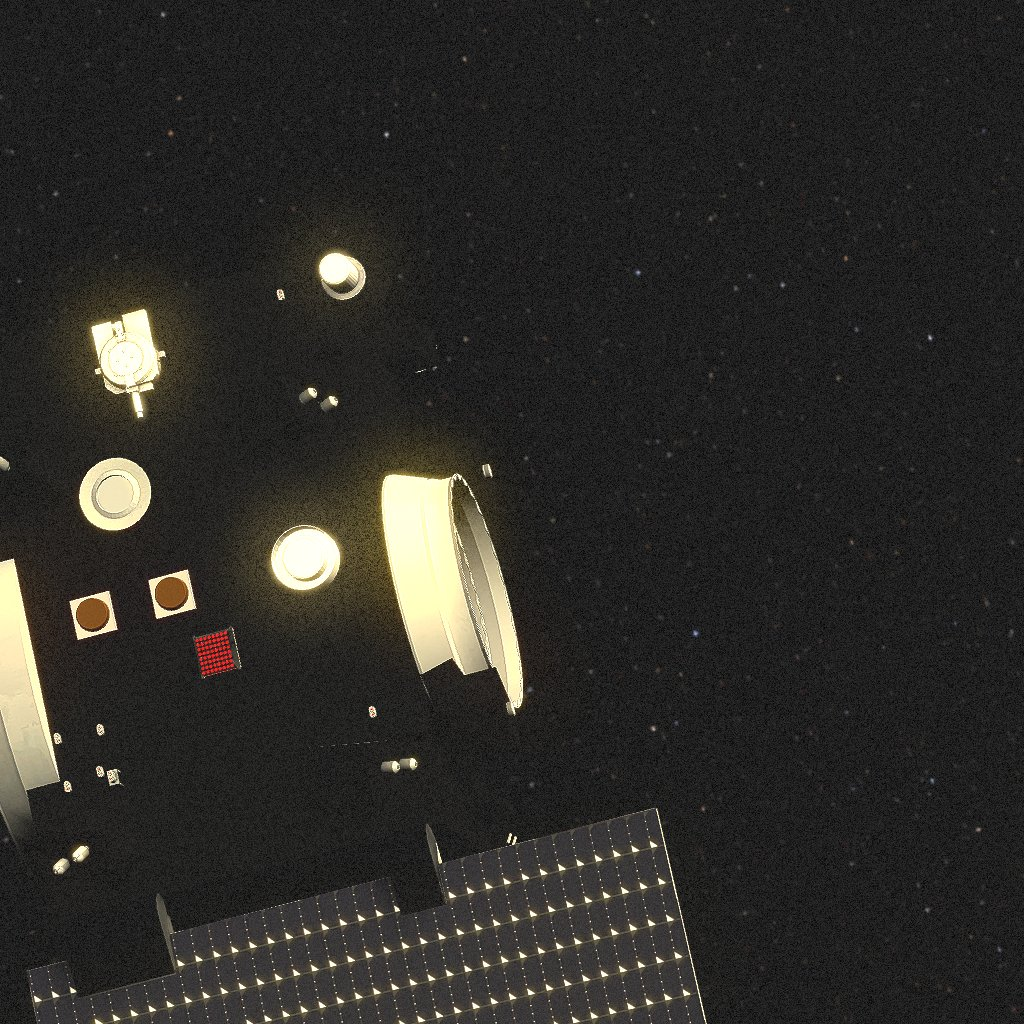proba_3_csc: (0, 252, 707, 1024)
